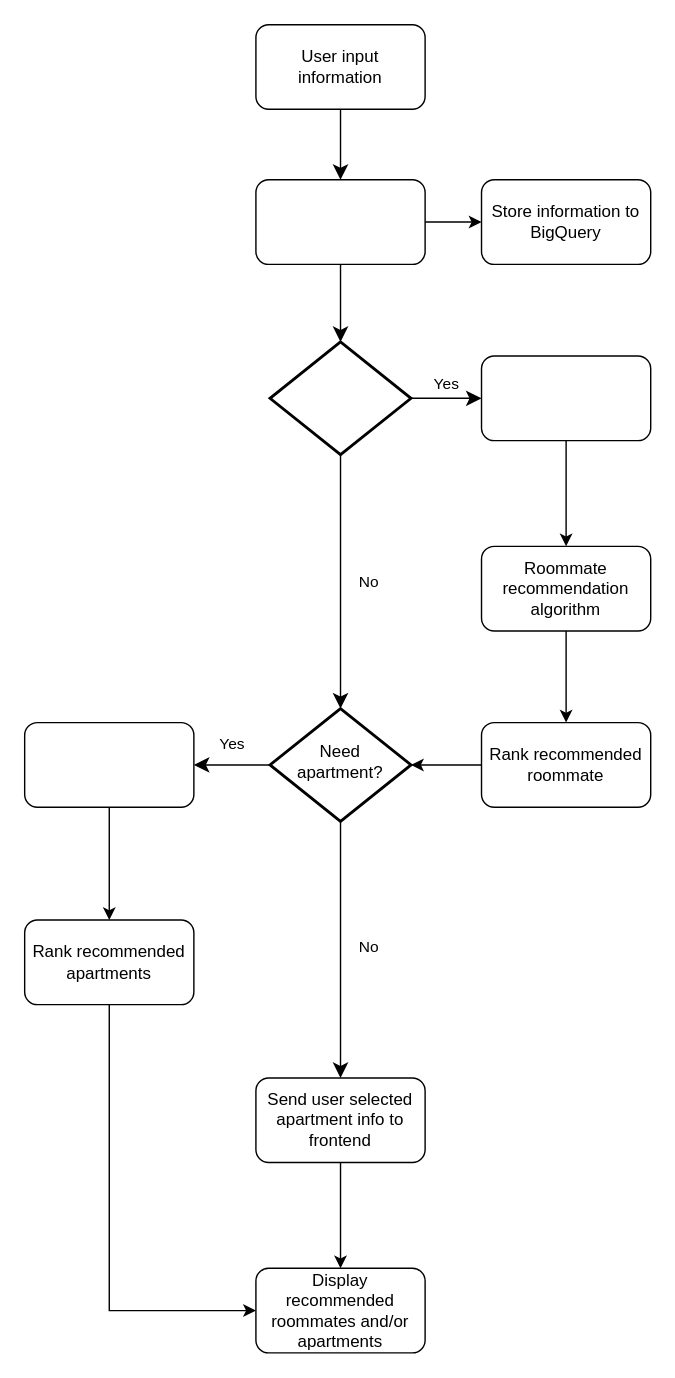
This 675x1378 diagram has some shape labels left out. The shapes that lost their labels are listed below. From the top down, each one's centre as x and y in pixels, then its label:
At point 340,221: "Pass information to backend".
At point 340,397: "Need roommate?".
At point 565,398: "Filter data using gender and school".
At point 108,764: "Filter apartment data and get weighted score".
